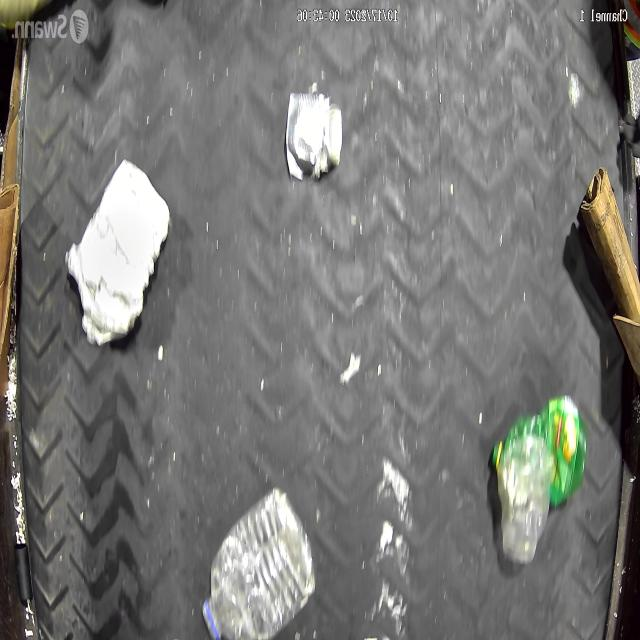can: (286, 92, 342, 182)
plastic_bottle: (202, 486, 316, 640)
